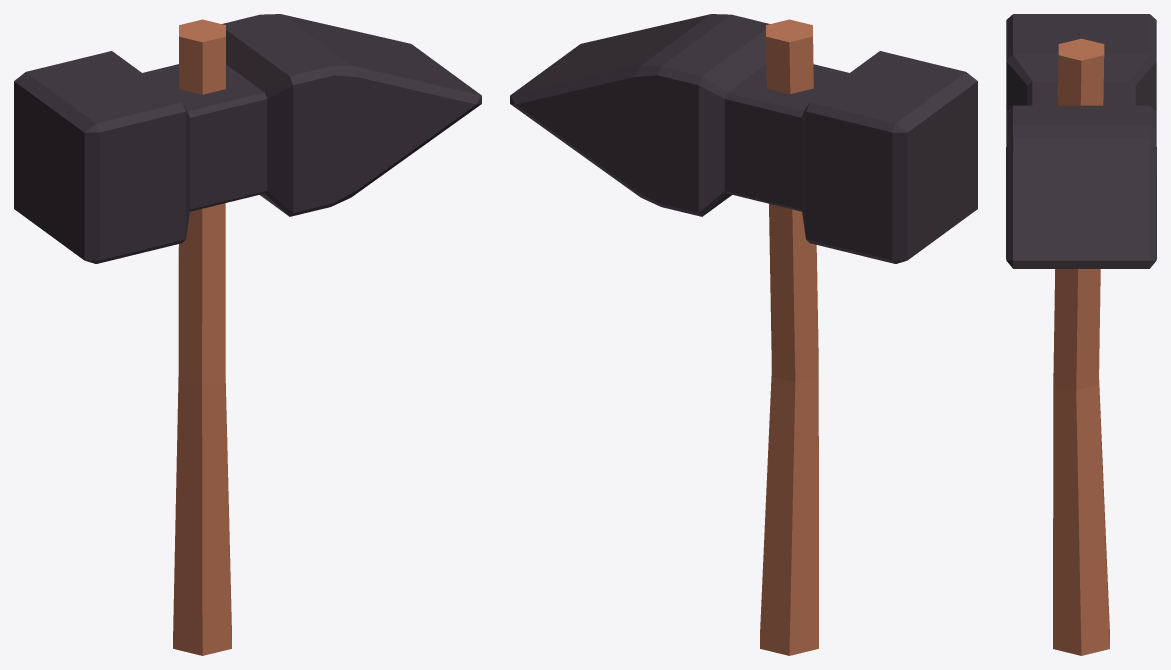
File: Hammer.fbx
3 renders of one model, left to right at view 1: azimuth 30°, elevation 25°; view 2: azimuth 150°, elevation 25°; view 3: azimuth 270°, elevation 25°, orthographic. The views are drawn at different scales.
Visible parts, largest first — view 1: Hammer; view 2: Hammer; view 3: Hammer.
Part boxes in pixels (x1=…): Hammer: x1=14, y1=14, x2=481, y2=655; Hammer: x1=510, y1=14, x2=977, y2=655; Hammer: x1=1006, y1=14, x2=1156, y2=655.
Bounding box in the file's own units: 0.2444 × 0.3588 × 0.0827.
